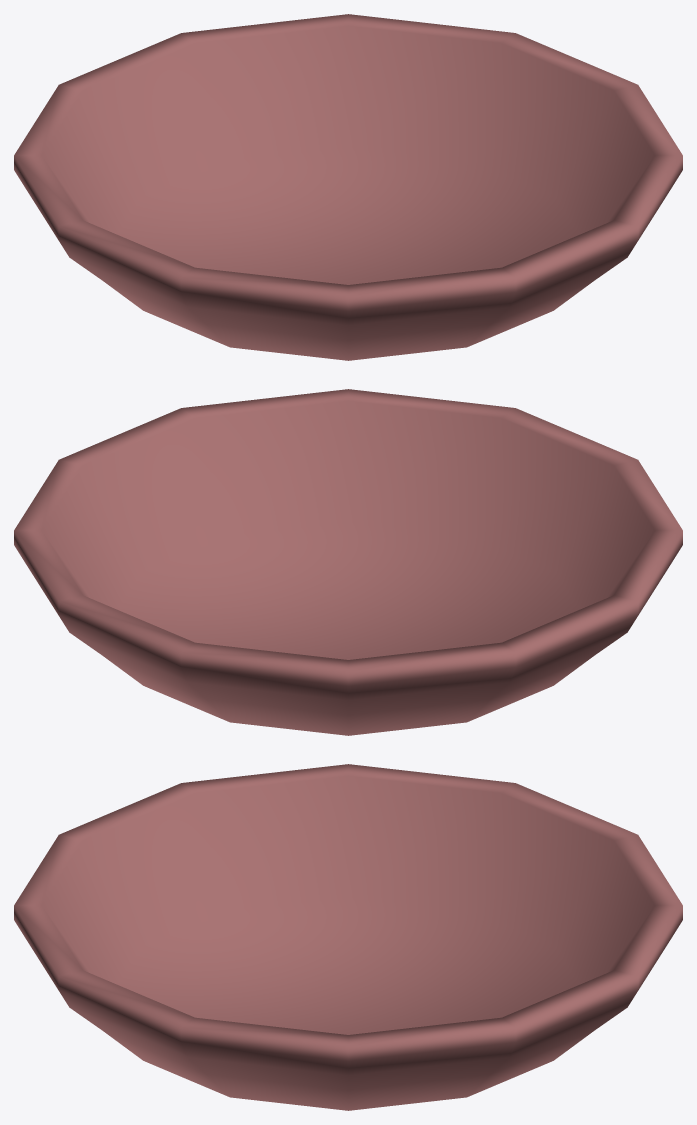
Rendered from Mod_Bol_LO_V1_JT.fbx.
3 renders of one model, top to bottom at view 1: azimuth 30°, elevation 25°; view 2: azimuth 150°, elevation 25°; view 3: azimuth 270°, elevation 25°, orthographic.
Visible parts, largest first — view 1: Bol_LO; view 2: Bol_LO; view 3: Bol_LO.
Boxes of the visible parts, x1=… form: Bol_LO: x1=14, y1=14, x2=682, y2=360; Bol_LO: x1=14, y1=389, x2=682, y2=735; Bol_LO: x1=14, y1=764, x2=682, y2=1110.
Size of the model in its own units: 52 by 9.03 by 52.
